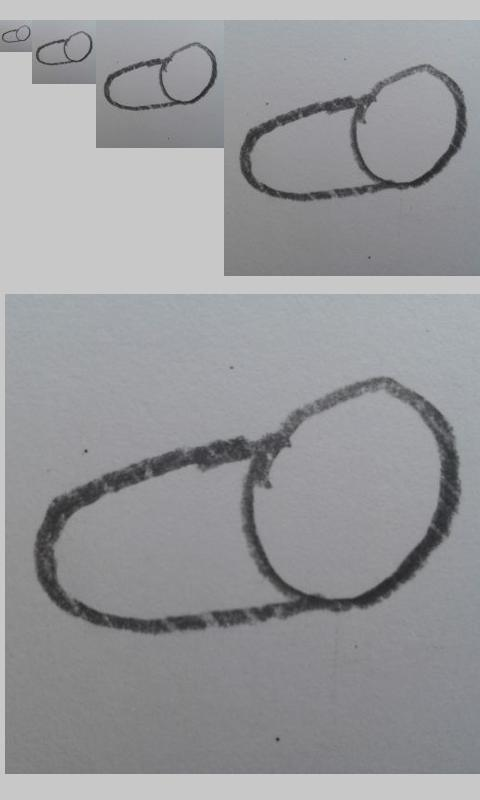switch: (32, 376, 462, 635), (239, 64, 467, 203), (103, 42, 218, 111), (36, 31, 93, 66), (1, 24, 31, 43)
